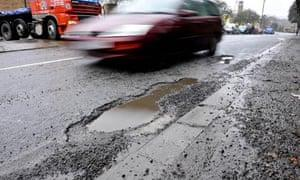Pothole: (61, 79, 201, 143)
